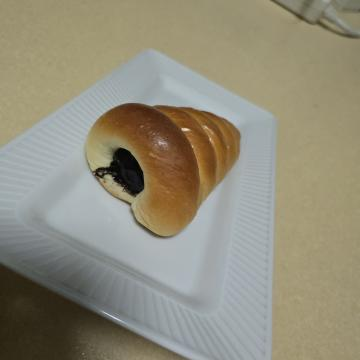cream horn: (82, 109, 251, 286)
